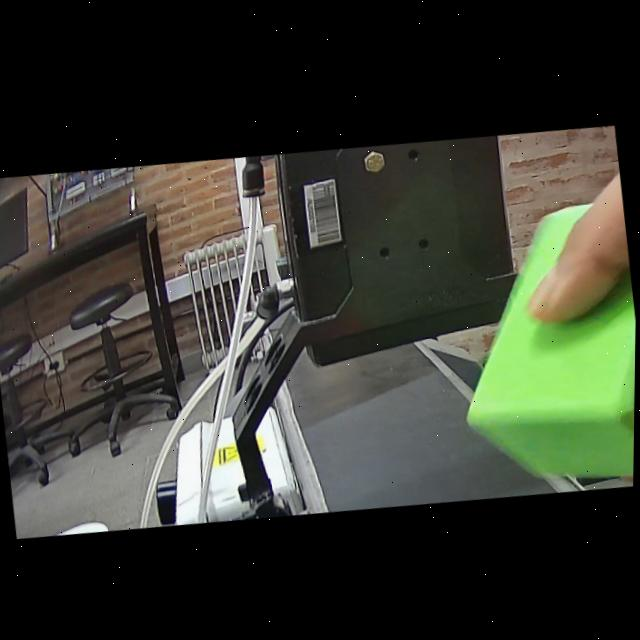greenBox: (433, 185, 638, 501)
